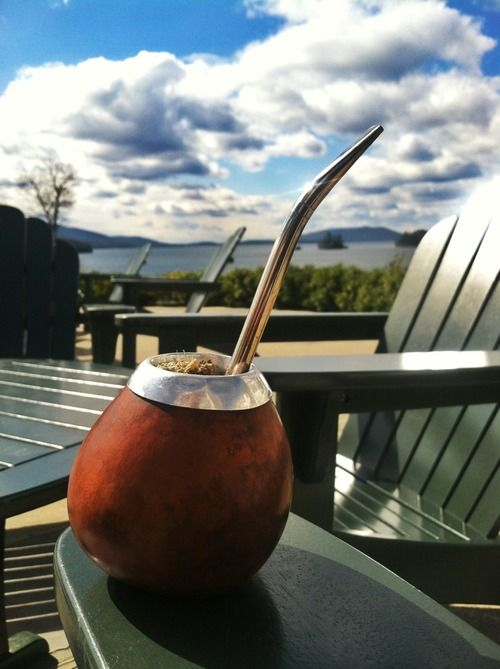mate: (67, 350, 293, 598)
